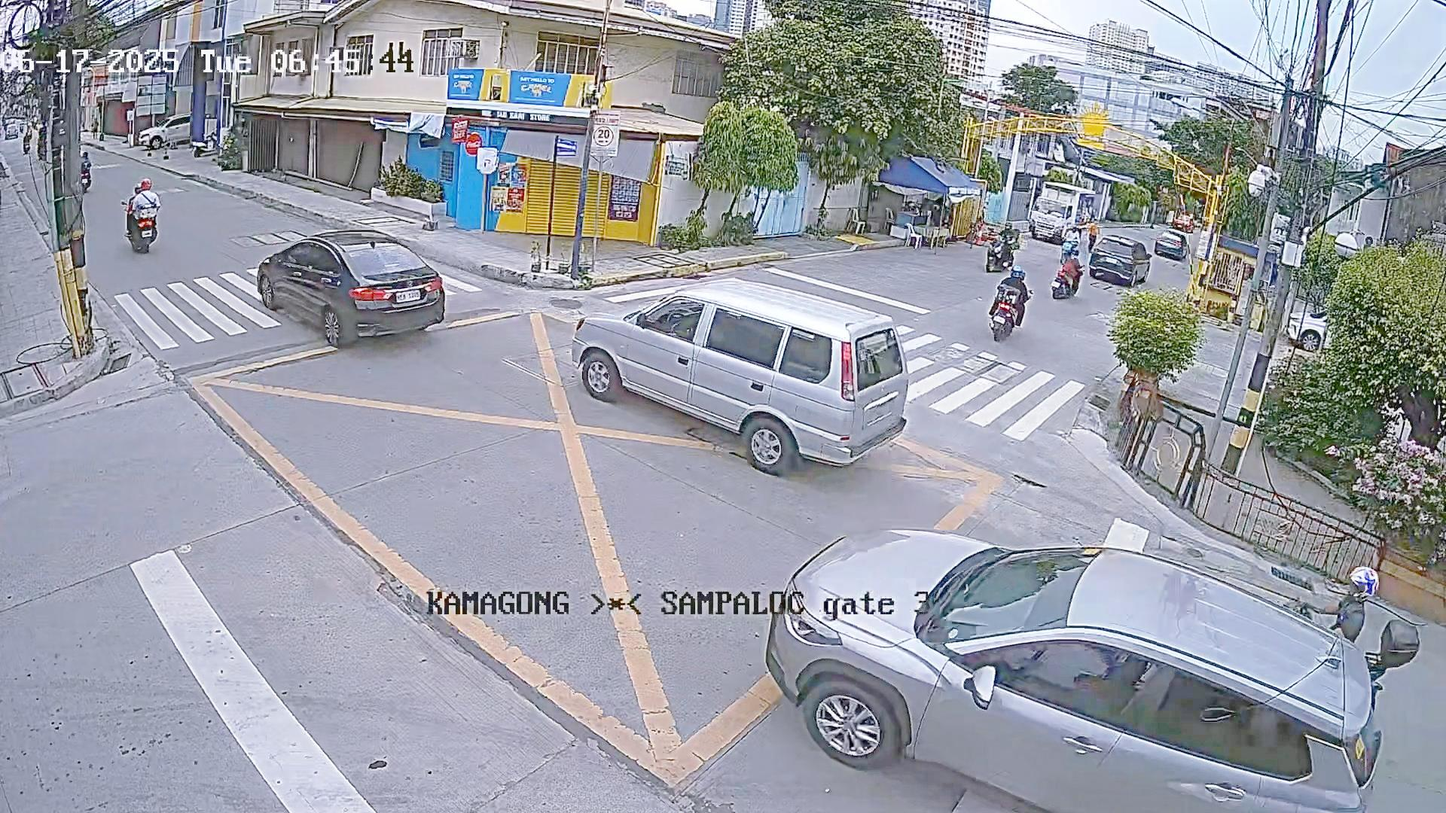Car: (762, 491, 1376, 813), (557, 251, 937, 491), (251, 204, 488, 374), (1083, 230, 1170, 291), (1135, 218, 1202, 265)
Motor: (1253, 524, 1424, 671), (106, 164, 196, 262), (980, 263, 1044, 368), (976, 207, 1033, 280), (1052, 242, 1086, 307)
